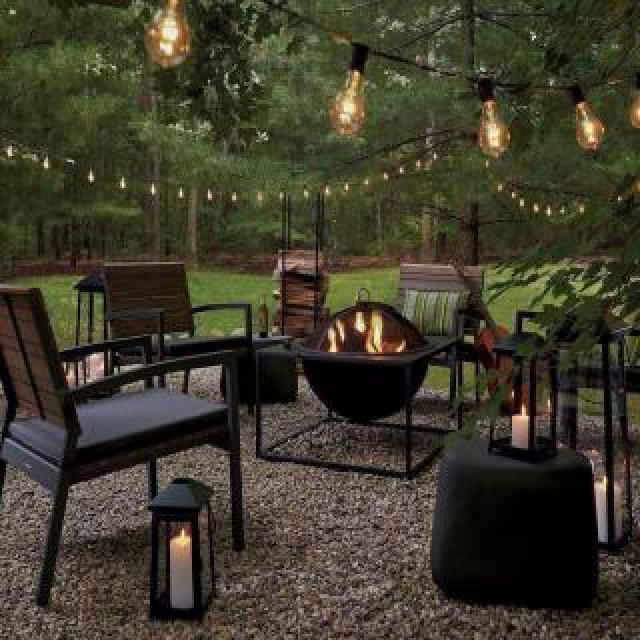Fire: (316, 302, 406, 362)
